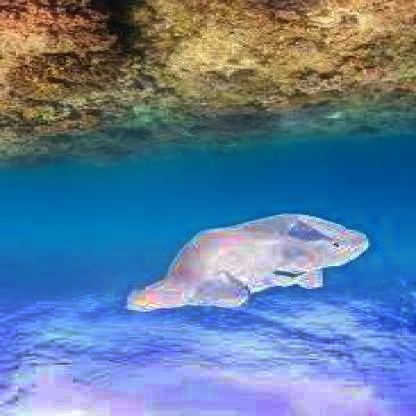pbag: (125, 212, 368, 313)
